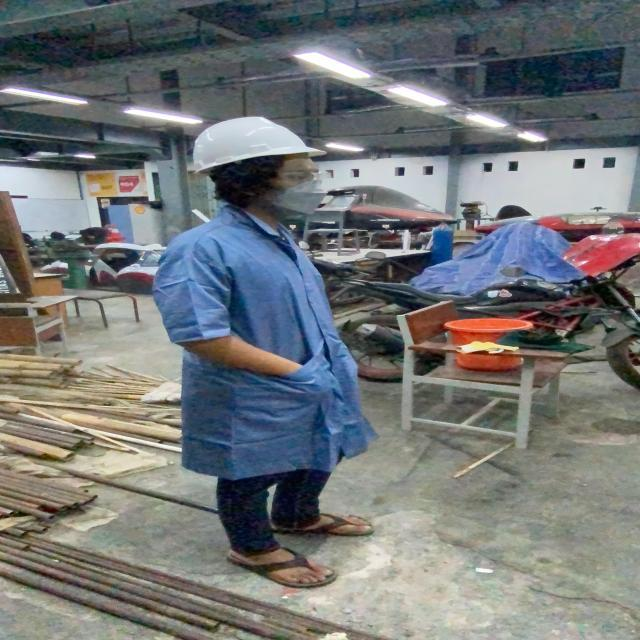glasses: (270, 168, 332, 186)
